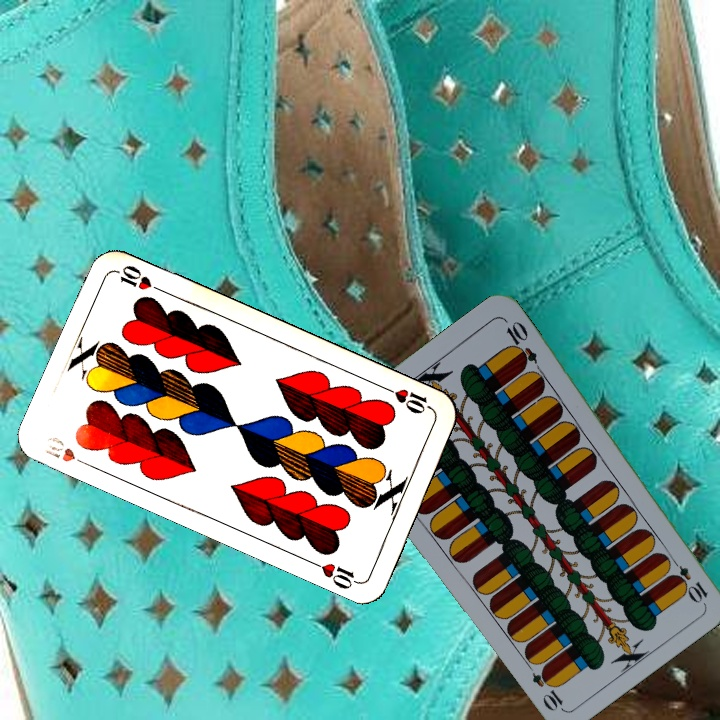E10: (665, 553, 711, 605)
H10: (41, 432, 94, 470), (380, 383, 436, 417)
